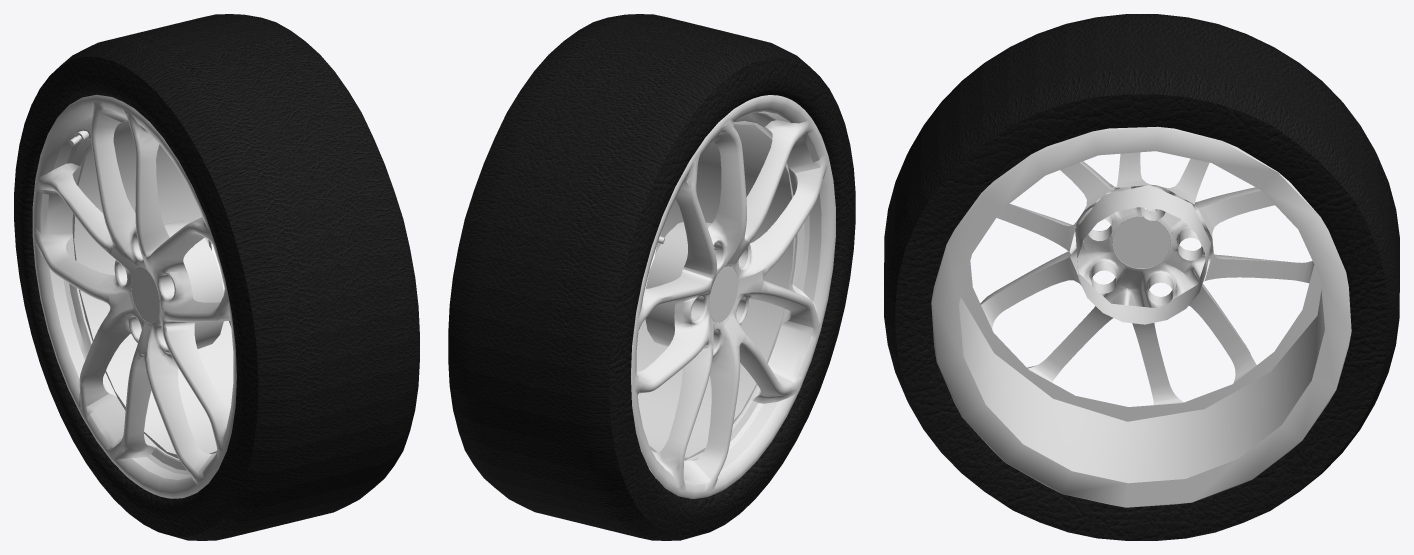
File: disk.gltf
3 views of the same model, side by side, from view 1: azimuth 30°, elevation 25°; view 2: azimuth 150°, elevation 25°; view 3: azimuth 270°, elevation 25° (orthographic).
Visible parts, largest first — view 1: Object_170, Object_169; view 2: Object_170, Object_169; view 3: Object_170, Object_169.
Part boxes in pixels (bbox=[...]): Object_170: bbox=[14, 14, 419, 540]; Object_169: bbox=[32, 94, 236, 498]; Object_170: bbox=[448, 14, 855, 540]; Object_169: bbox=[631, 95, 835, 498]; Object_170: bbox=[884, 14, 1399, 540]; Object_169: bbox=[931, 126, 1351, 507].
Size of the model in its own units: 0.6305 by 1.65 by 1.66.
2 materials, 1 textured.
